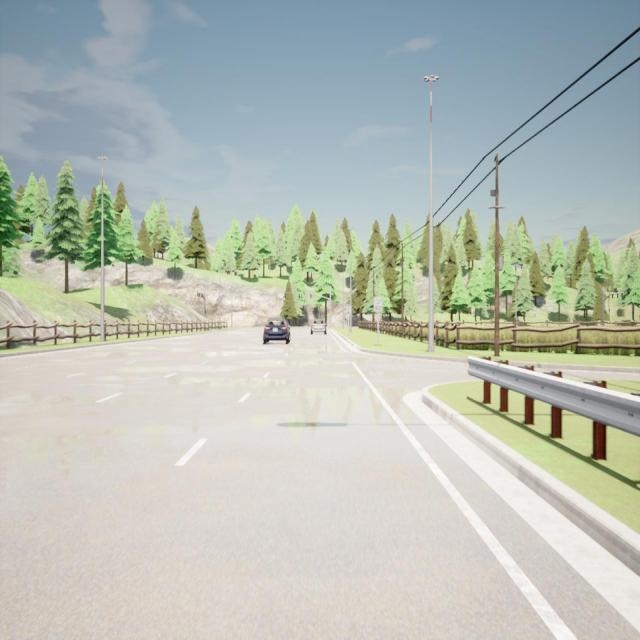Traffic_Signs: (374, 297, 382, 311)
Vehicle: (263, 317, 290, 345), (310, 318, 327, 335)
traffic_light: (298, 293, 300, 298), (310, 294, 312, 298), (201, 294, 203, 297), (199, 293, 200, 297), (205, 310, 206, 314), (198, 292, 198, 296)
